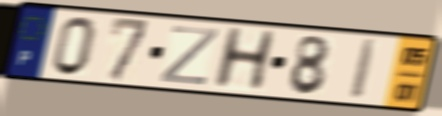0: (49, 14, 99, 78)
7: (107, 15, 152, 85)
8: (289, 33, 334, 97)
H: (209, 25, 280, 91)
I: (347, 37, 381, 103)
Z: (156, 23, 222, 88)
